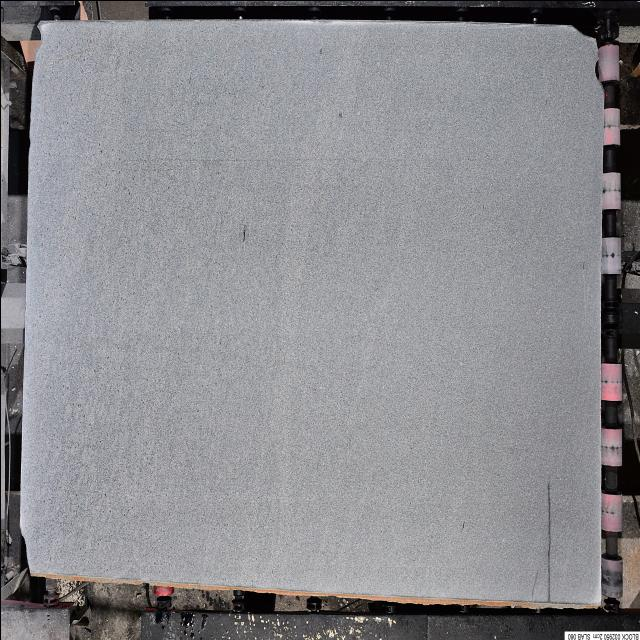chapa: (20, 19, 601, 604)
